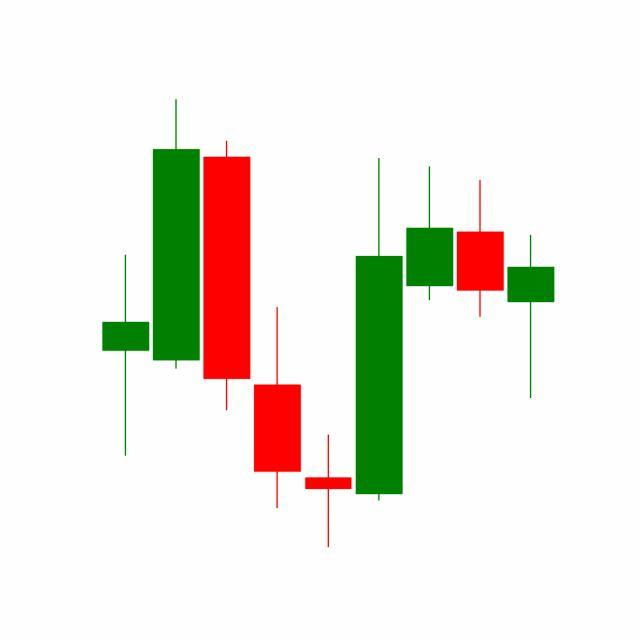Hikkake Pattern: (252, 154, 506, 549)
